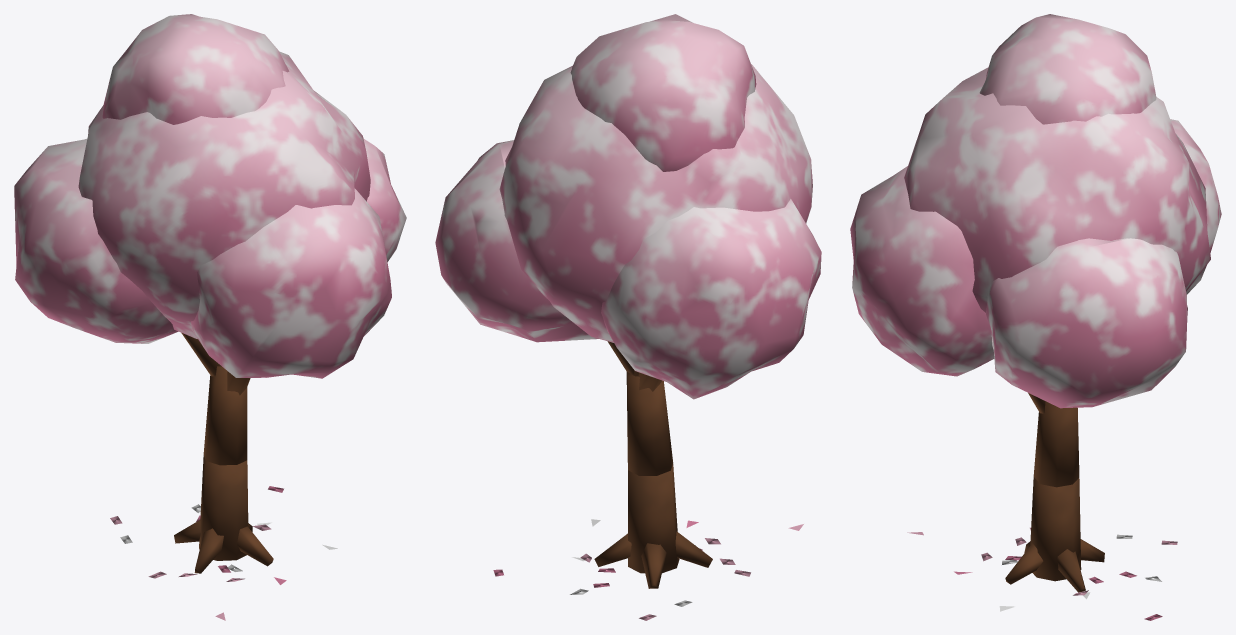
Rendered from season_decid_a_spring.glb.
3 views of the same model, side by side, from view 1: azimuth 30°, elevation 25°; view 2: azimuth 150°, elevation 25°; view 3: azimuth 270°, elevation 25° (orthographic). The views are drawn at different scales.
Visible parts, largest first — view 1: branches; view 2: branches; view 3: branches.
Boxes of the visible parts, left/top/right/bottom form: branches: left=14, top=14, right=406, bottom=620; branches: left=435, top=14, right=821, bottom=620; branches: left=850, top=14, right=1221, bottom=620.
Size of the model in its own units: 2.65 by 3.88 by 2.42.
Materials: 1 (1 with a texture image).
